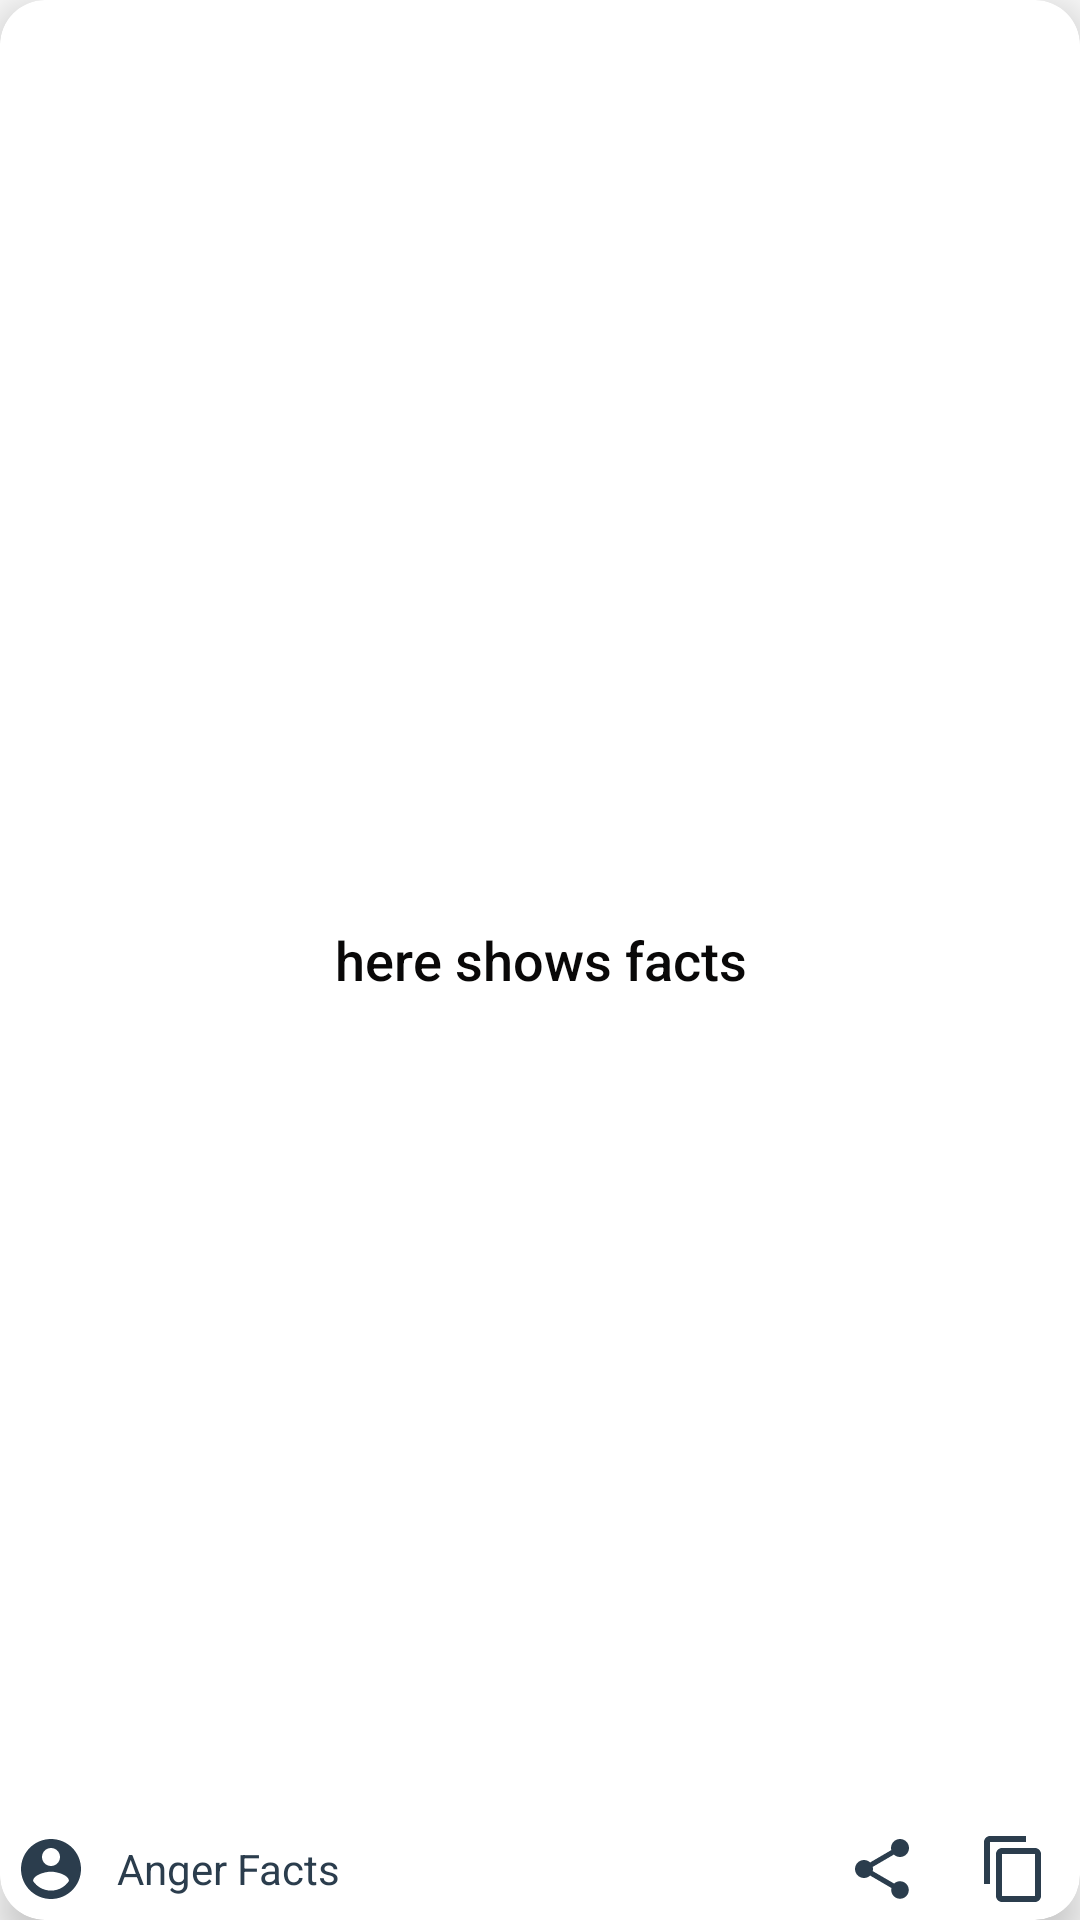

Screen size 1080*1920. Icon name, then its center in pixels as [x,y]:
account circle: [51,1869]
share: [882,1869]
